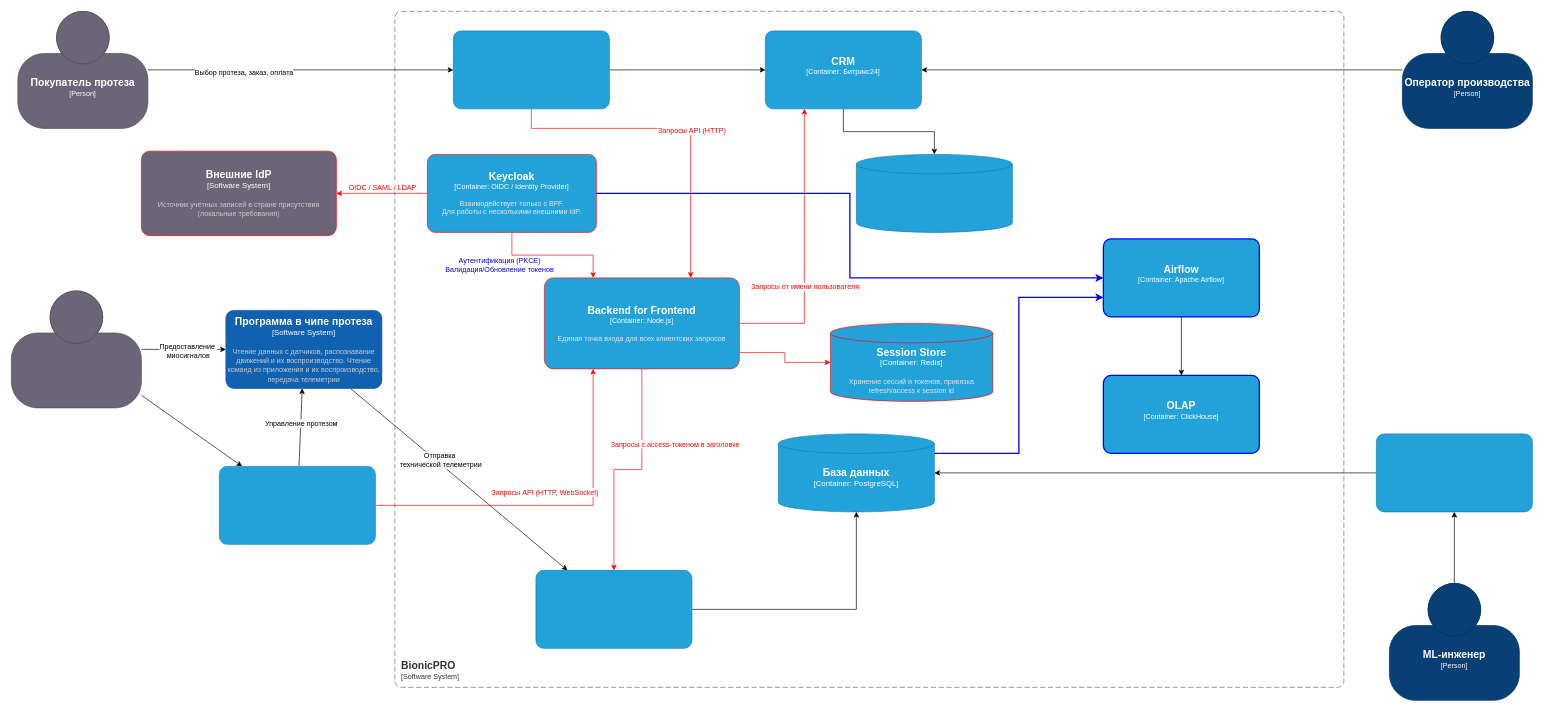
Some shapes in this 1544 by 712 pixel diagram are drawn without their labels. Each missing label, with the centre of its shape:
"API [Container: e.g. SpringBoot, ElasticSearch, etc.]" belongs at pixel 613 609.
"cli tool [Container: e.g. SpringBoot, ElasticSearch, etc.]" belongs at pixel 1454 472.
"CRM DB [Container: e.g. Oracle Database 12]" belongs at pixel 934 193.
"Интернет-магазин [Container: Битрикс24]" belongs at pixel 531 69.
"Пилот протеза [Person] С этого человека считываются данные" belongs at pixel 76 349.
"Приложение для донастройки протеза [Container: iOD, Android]" belongs at pixel 297 505.
